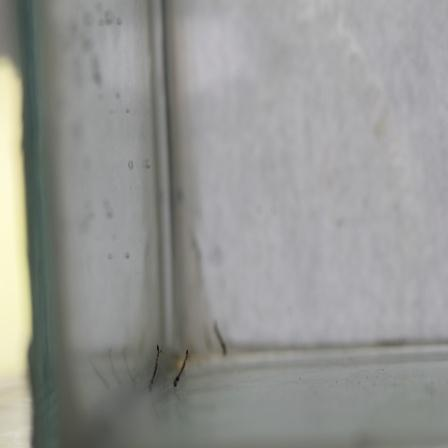Jentik-Nyamuk: (169, 346, 196, 391), (139, 342, 164, 390)
